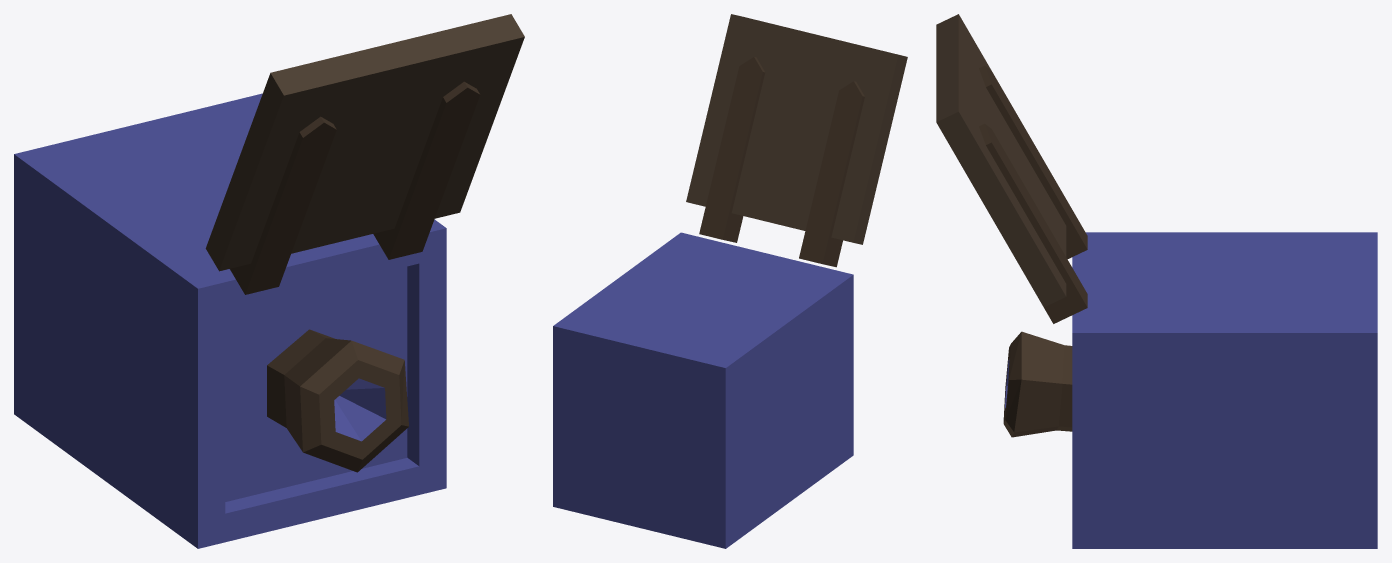
Rendered from SM_Veh_Extra_Gun_01.glb.
3 views of the same model, side by side, from view 1: azimuth 30°, elevation 25°; view 2: azimuth 150°, elevation 25°; view 3: azimuth 270°, elevation 25° (orthographic). The views are drawn at different scales.
Parts seen in each view (by area): view 1: SM_Veh_Extra_Gun_01_00, SM_Veh_Extra_Gun_01_02, SM_Veh_Extra_Gun_01_01; view 2: SM_Veh_Extra_Gun_01_00, SM_Veh_Extra_Gun_01_02; view 3: SM_Veh_Extra_Gun_01_00, SM_Veh_Extra_Gun_01_02, SM_Veh_Extra_Gun_01_01.
Part boxes in pixels (x1,y1,x2,y2): SM_Veh_Extra_Gun_01_00: [14, 93, 446, 548]; SM_Veh_Extra_Gun_01_02: [205, 14, 524, 294]; SM_Veh_Extra_Gun_01_01: [267, 329, 408, 472]; SM_Veh_Extra_Gun_01_00: [553, 232, 853, 548]; SM_Veh_Extra_Gun_01_02: [686, 14, 907, 267]; SM_Veh_Extra_Gun_01_00: [1072, 232, 1377, 548]; SM_Veh_Extra_Gun_01_02: [936, 14, 1087, 323]; SM_Veh_Extra_Gun_01_01: [1003, 331, 1072, 437].
Bounding box in the file's own units: 0.8599 × 1.74 × 1.59.
Materials: 1 (1 with a texture image).
